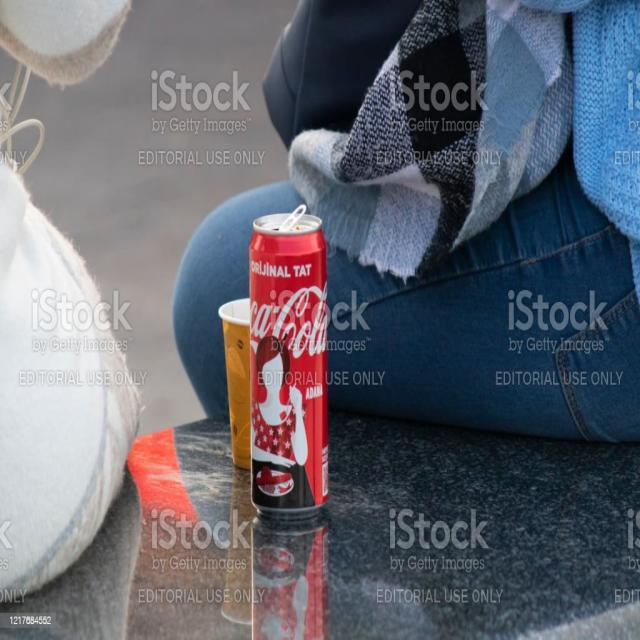coca-cola: (252, 214, 332, 518)
